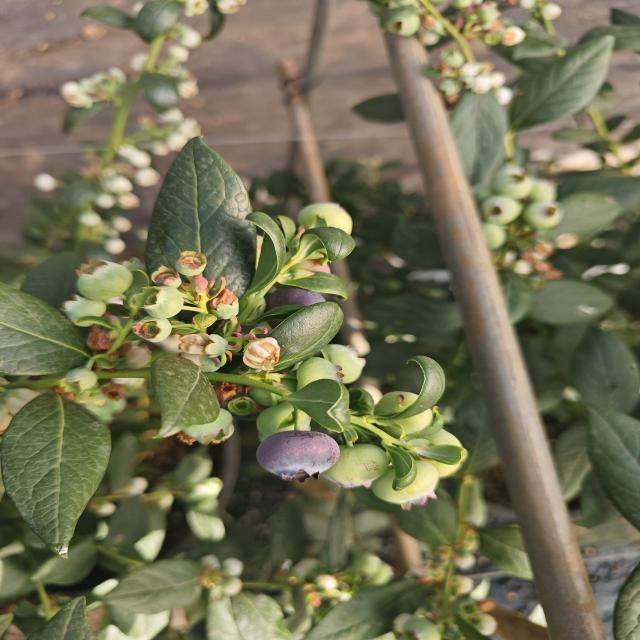ripe: (252, 426, 342, 483), (267, 282, 330, 314)
